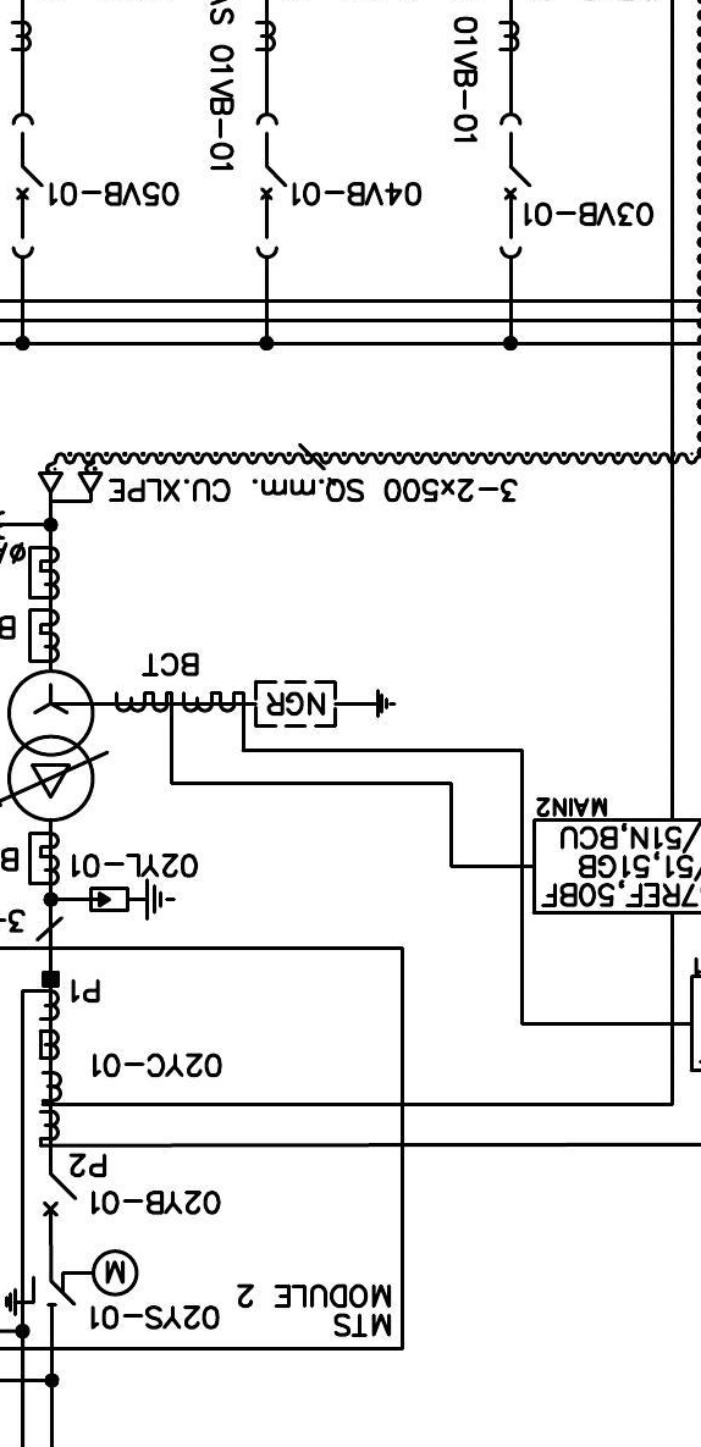11522_tx_dyn1: (6, 668, 96, 823)
115_3ways_ds_w_motor: (3, 1248, 140, 1318)
115_breaker: (42, 1172, 79, 1217)
115_la: (88, 877, 177, 922)
22_breaker: (10, 112, 46, 260), (498, 112, 533, 260), (255, 112, 290, 260)
NGR_future: (253, 679, 397, 729)
terminator_double: (37, 471, 103, 504)
